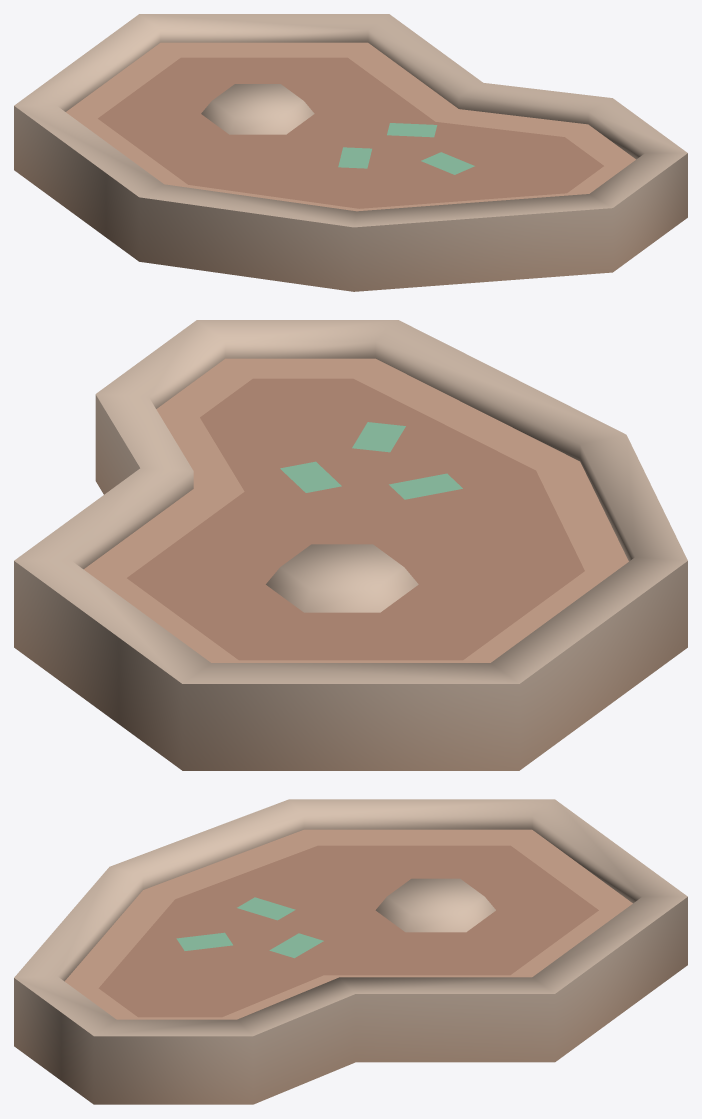
Rendered from meat-cooked.glb.
3 renders of one model, top to bottom at view 1: azimuth 30°, elevation 25°; view 2: azimuth 150°, elevation 25°; view 3: azimuth 270°, elevation 25°, orthographic. The views are drawn at different scales.
Parts seen in each view (by area): view 1: meat-cooked; view 2: meat-cooked; view 3: meat-cooked.
Part boxes in pixels (x1=…): meat-cooked: x1=14, y1=14, x2=687, y2=291; meat-cooked: x1=14, y1=320, x2=687, y2=770; meat-cooked: x1=14, y1=799, x2=687, y2=1104.
Size of the model in its own units: 0.4785 by 0.0645 by 0.5754.
